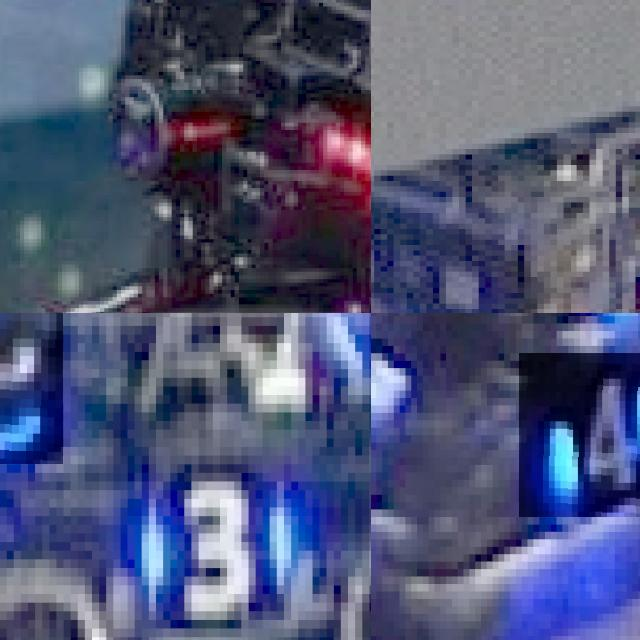B3: (114, 456, 306, 620), (0, 313, 63, 464)
B4: (518, 353, 640, 516)
